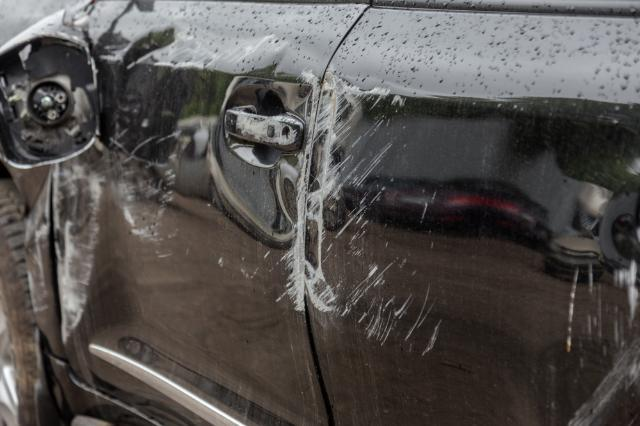dent: (216, 131, 293, 239)
scratch: (305, 69, 441, 348), (54, 132, 177, 350), (558, 246, 640, 426), (279, 68, 320, 316), (235, 113, 304, 146)
